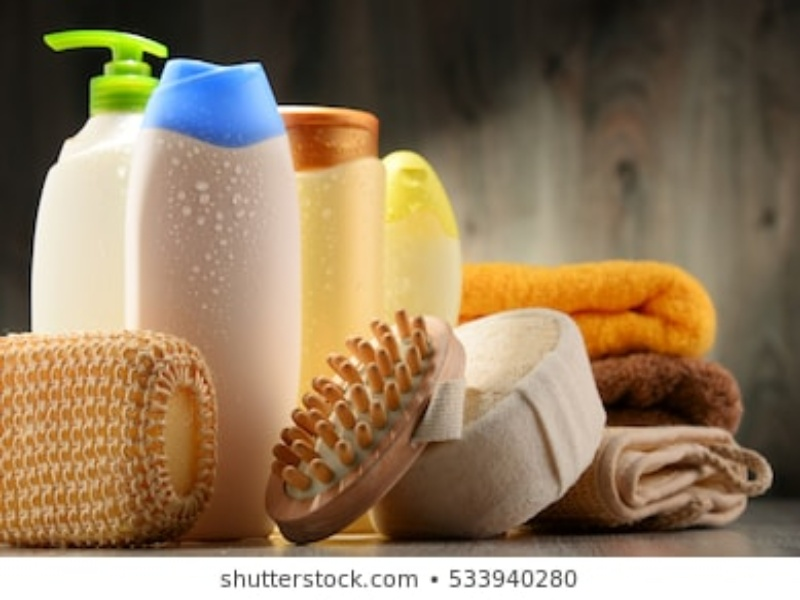shampoo-bottle: (126, 57, 292, 538), (32, 25, 169, 341), (289, 102, 389, 401), (381, 143, 466, 332)
